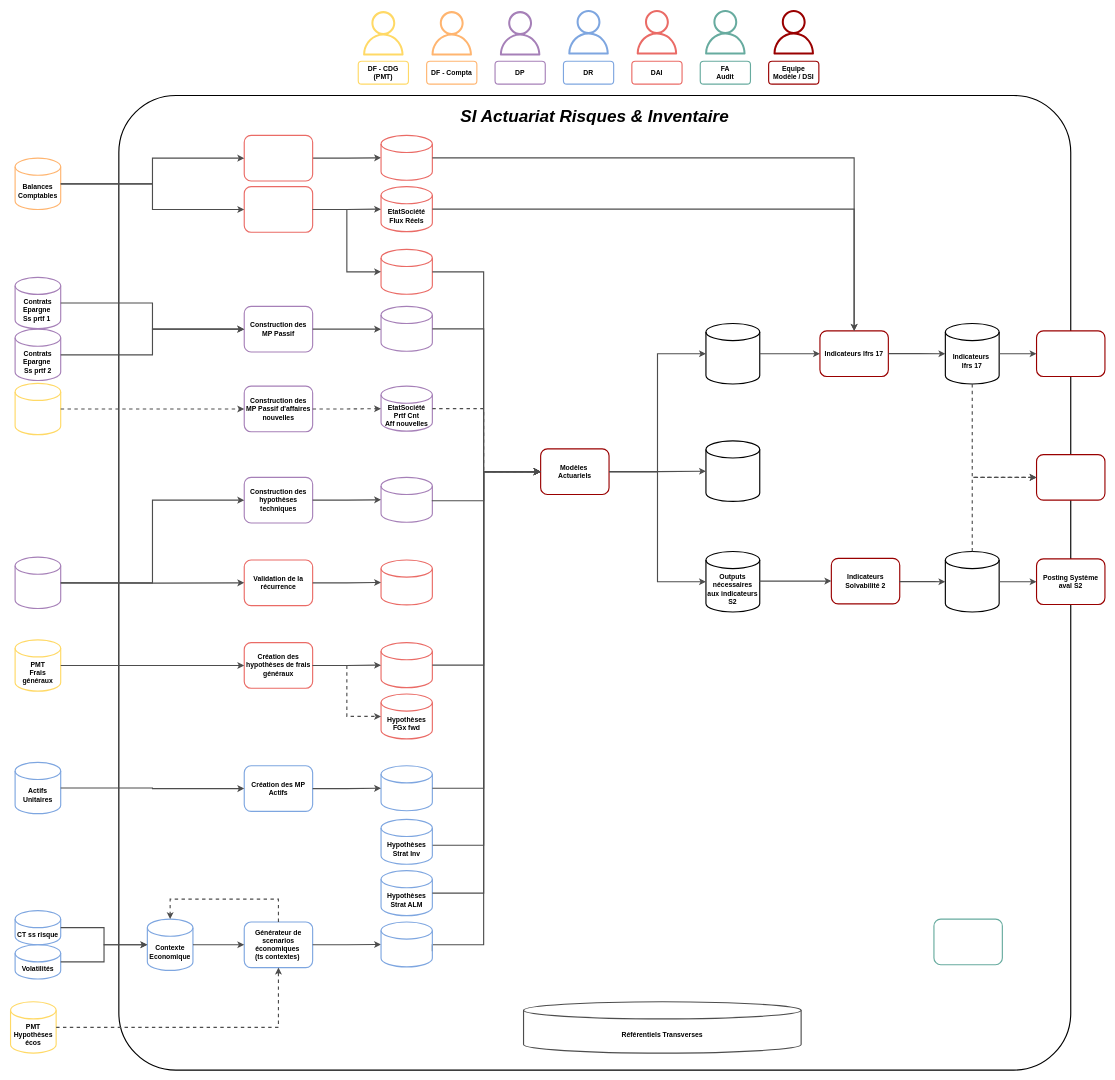
Image size: 1115x1080. Some labels were removed from this diagram. The centre of each missing label's shape, as x and y in pixels:
"Analyses Déterministes" belongs at (x=732, y=471).
"Analyses à froid Audit / Contrôles" belongs at (x=968, y=941).
"EtatSociété ActifsUnitaires" belongs at (x=406, y=788).
"EtatSociété FGx" belongs at (x=406, y=158).
"EtatSociété Provisions" belongs at (x=406, y=272).
"EtatSociété Prtf Cnt" belongs at (x=406, y=329).
"Extraction des provisions et flux comptables réels" belongs at (x=278, y=209).
"Hypothèses FGx" belongs at (x=406, y=665).
"Hypothèses Techniques" belongs at (x=406, y=500).
"Import des frais généraux (compta)" belongs at (x=278, y=158).
"Indicateurs S2" belongs at (x=971, y=581).
"Outputs nécessaires aux indicateurs Ifrs17" belongs at (x=732, y=353).
"Outputs SI de gestion (DWH)" belongs at (x=37, y=582).
"PMT Primes & Prestations" belongs at (x=37, y=408).
"Posting Ifrs17 Comptabilité" belongs at (x=1070, y=353).
"Posting S2 Ifrs17 Outil PMT" belongs at (x=1070, y=477).
"Récurrence Etats de contrôles" belongs at (x=406, y=582).
"Scenarios économiques" belongs at (x=406, y=944).
